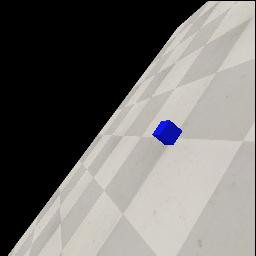box: (152, 120, 182, 145)
